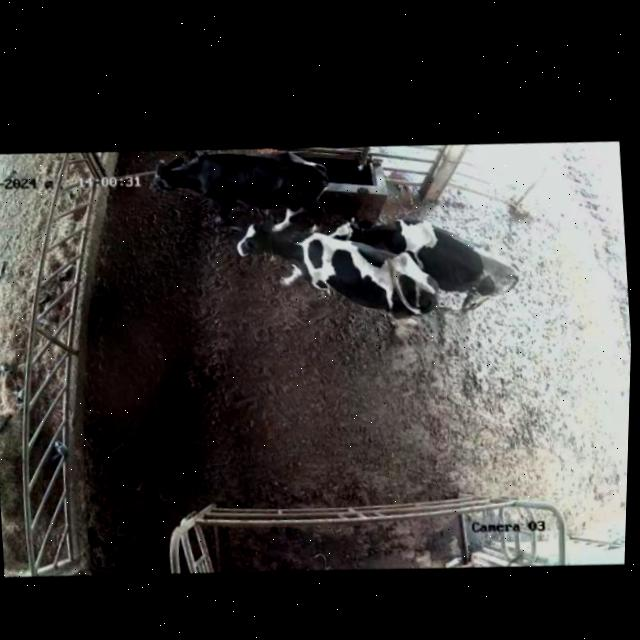stand: (234, 201, 444, 358), (329, 190, 531, 327), (147, 130, 337, 233)
